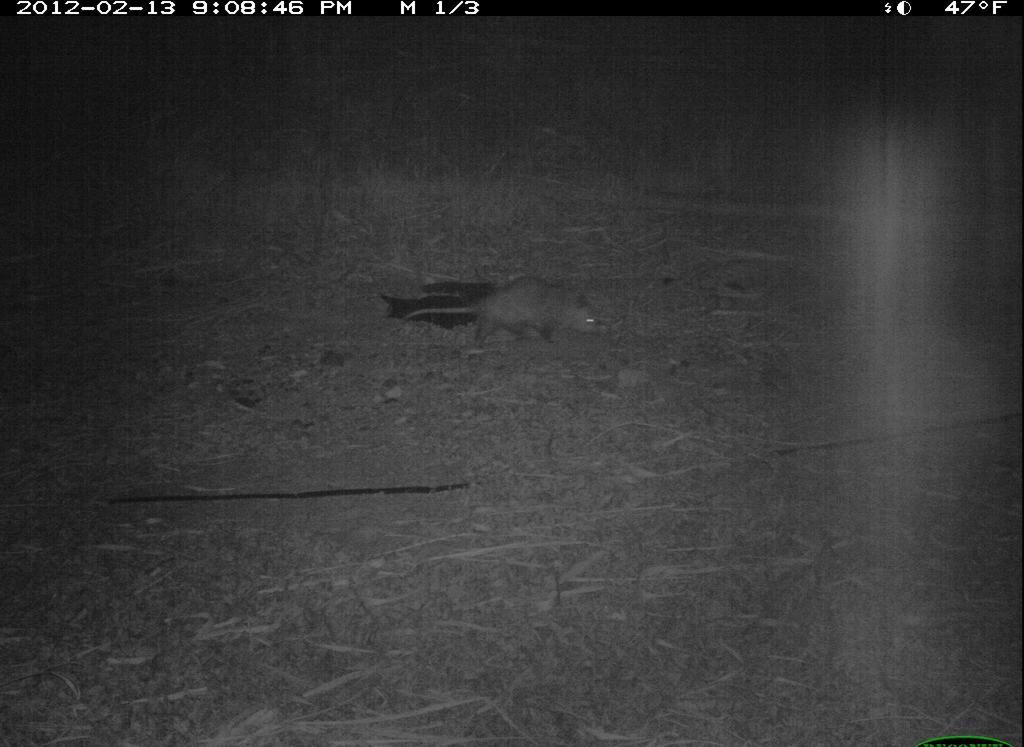opossum: (393, 271, 609, 356)
